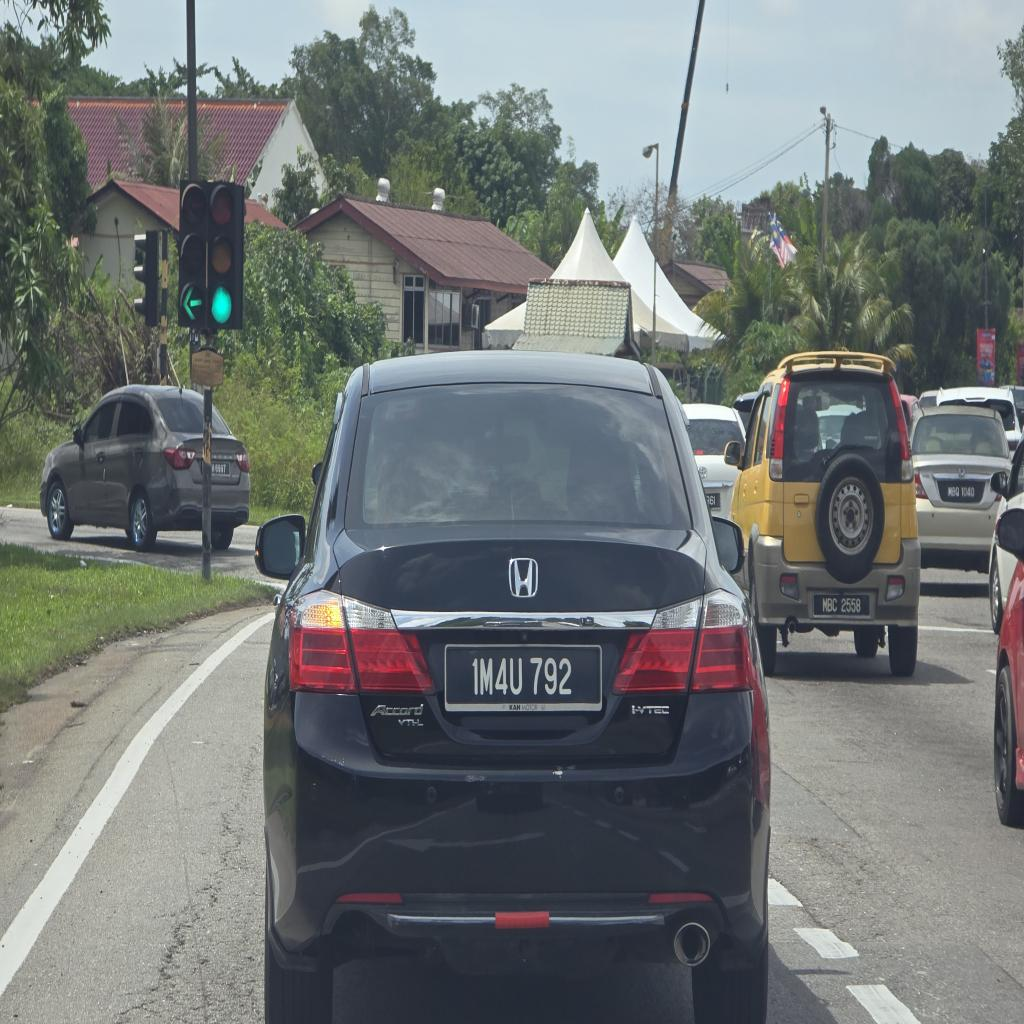car: (256, 352, 769, 1023), (727, 352, 920, 675)
car plate: (445, 645, 602, 712), (813, 593, 870, 618)
